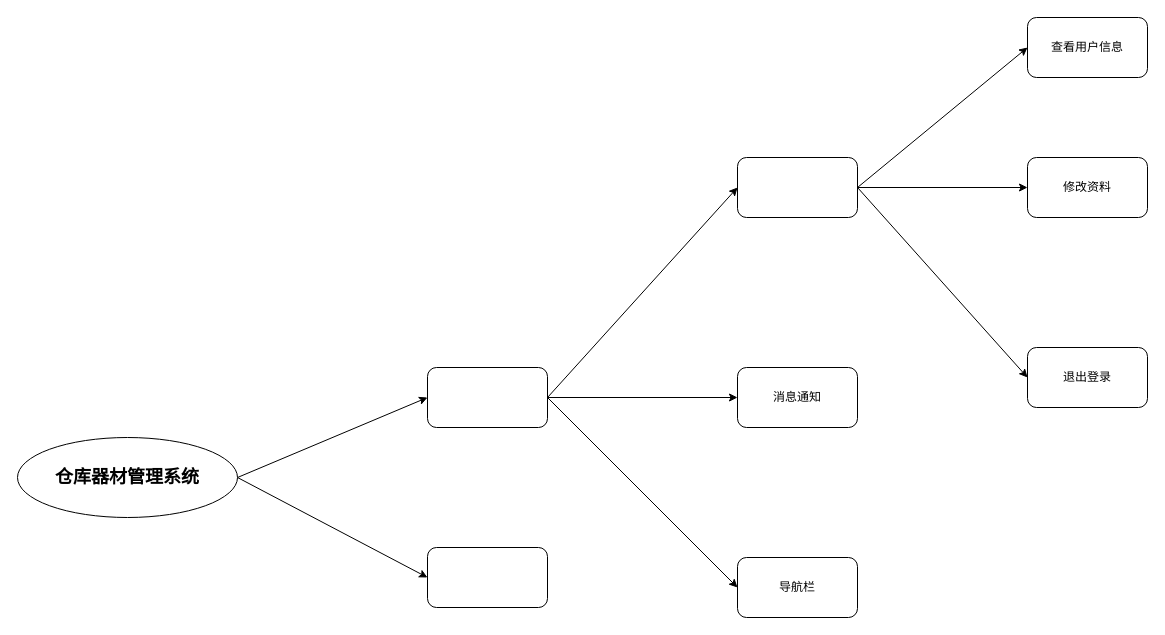
The diagram is 1165 pixels wide and 635 high, and some of its shapes have lost their labels. Here are the shapes that lost their labels. From the top down, the centre of each, then its label:
the point at 797,187: 当前信息
the point at 487,397: 用户登录
the point at 487,577: 忘记密码
